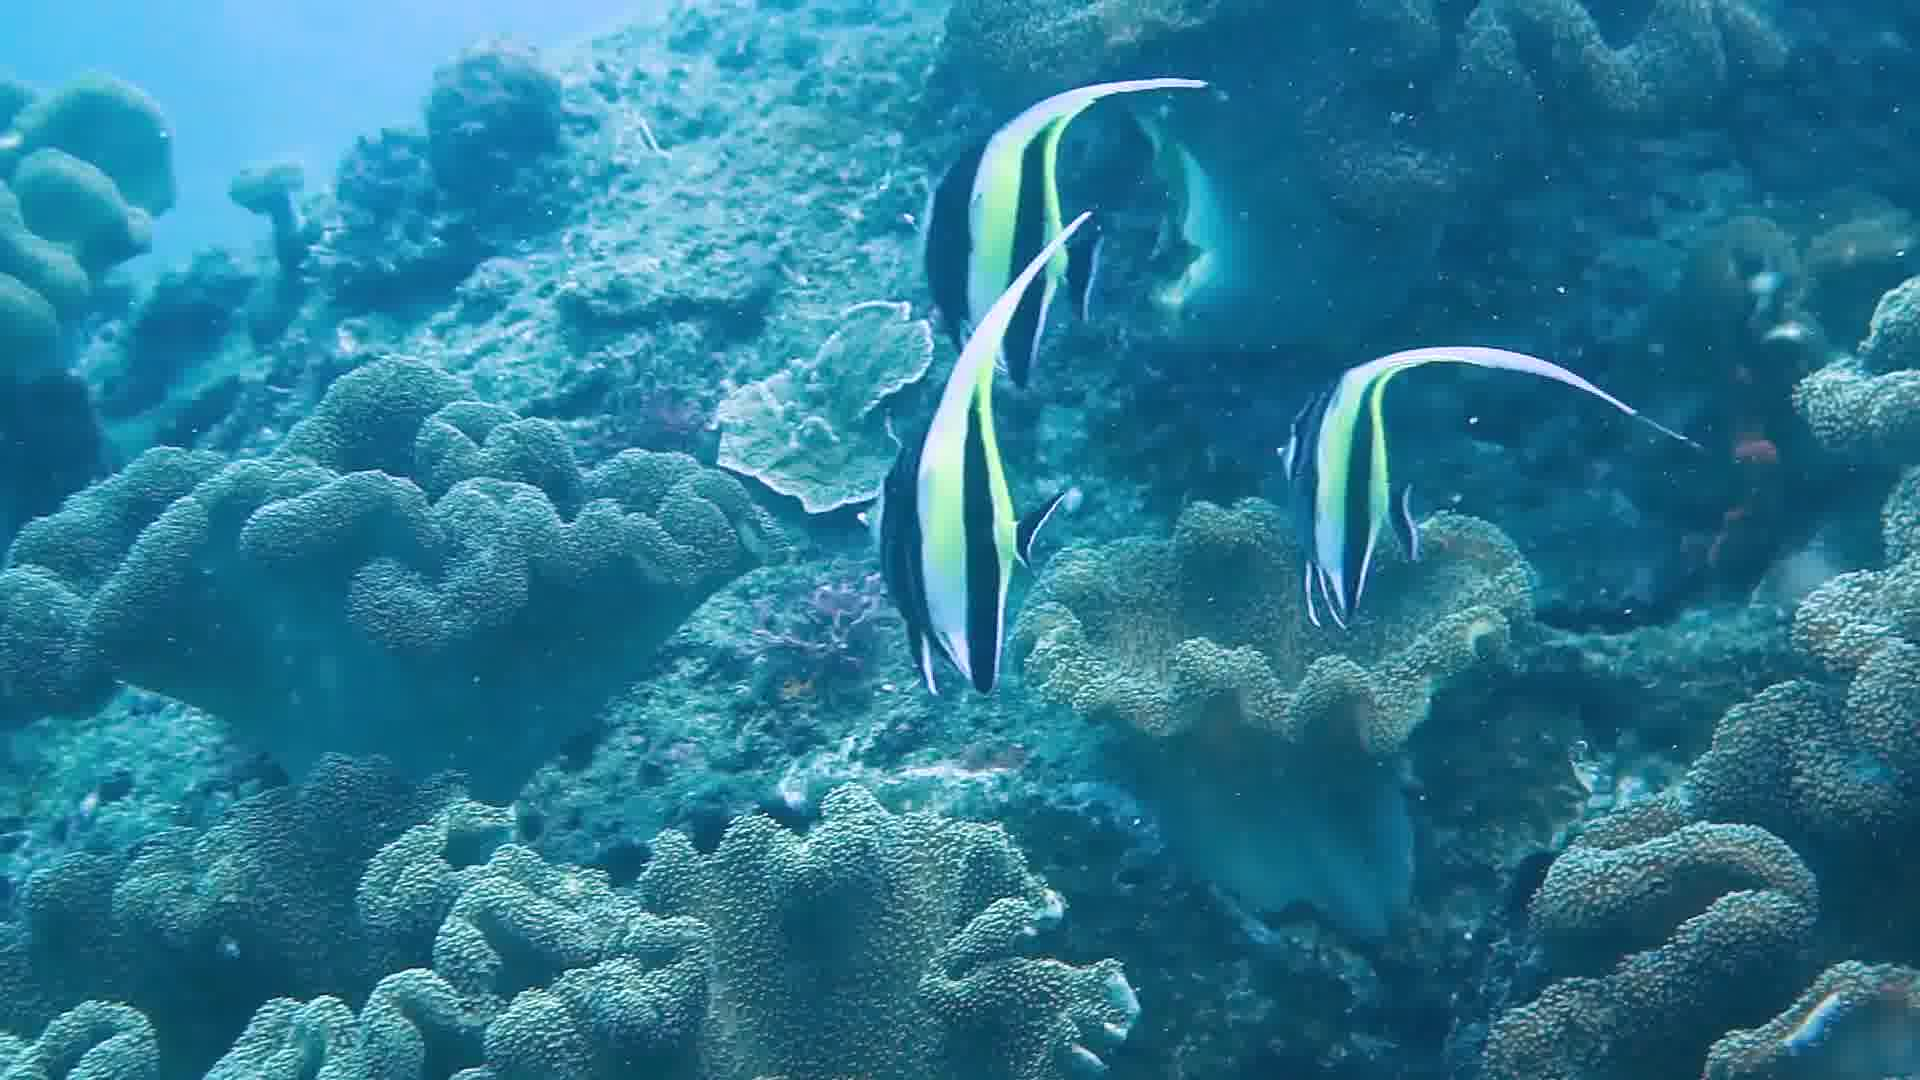Zanclus cornutus: (843, 349, 1088, 705), (1258, 338, 1472, 667), (923, 78, 1137, 407)
